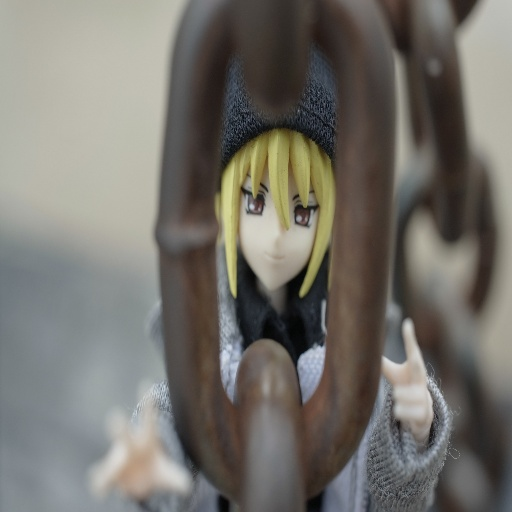hand: (370, 319, 456, 486), (87, 376, 196, 502)
